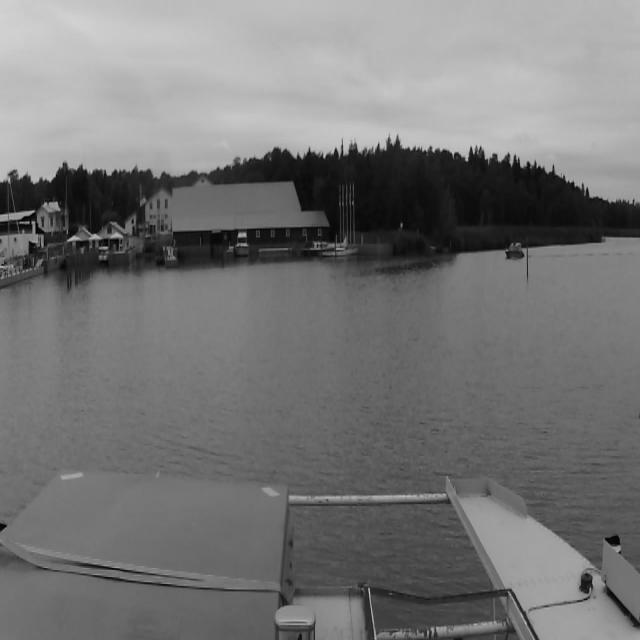buoy: (526, 236, 528, 281), (379, 238, 380, 260)
ship: (321, 137, 359, 259), (236, 226, 251, 258), (505, 242, 525, 258)
